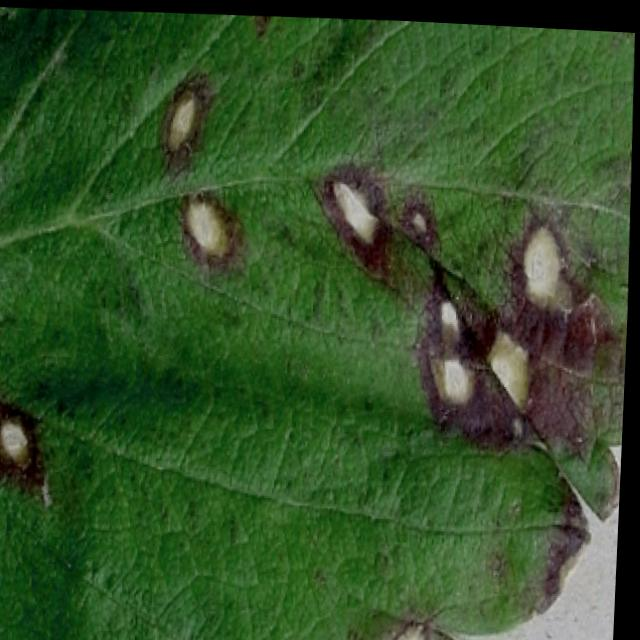Leaf Spot: (0, 6, 634, 640)
